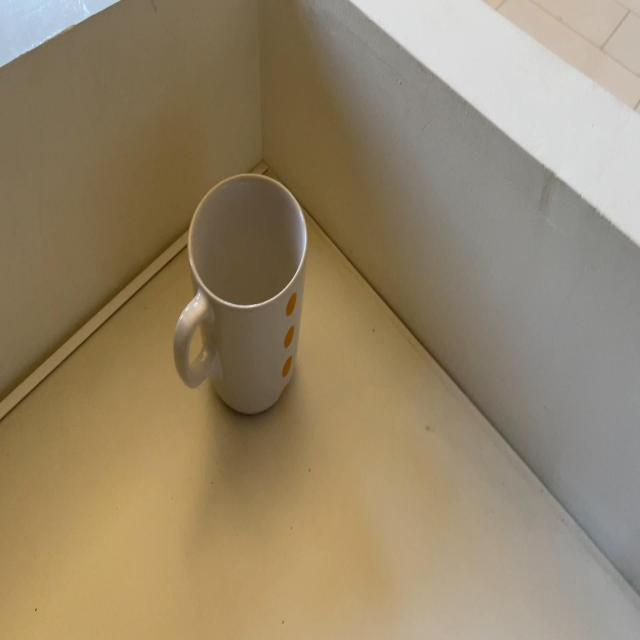cup: (170, 173, 309, 417)
